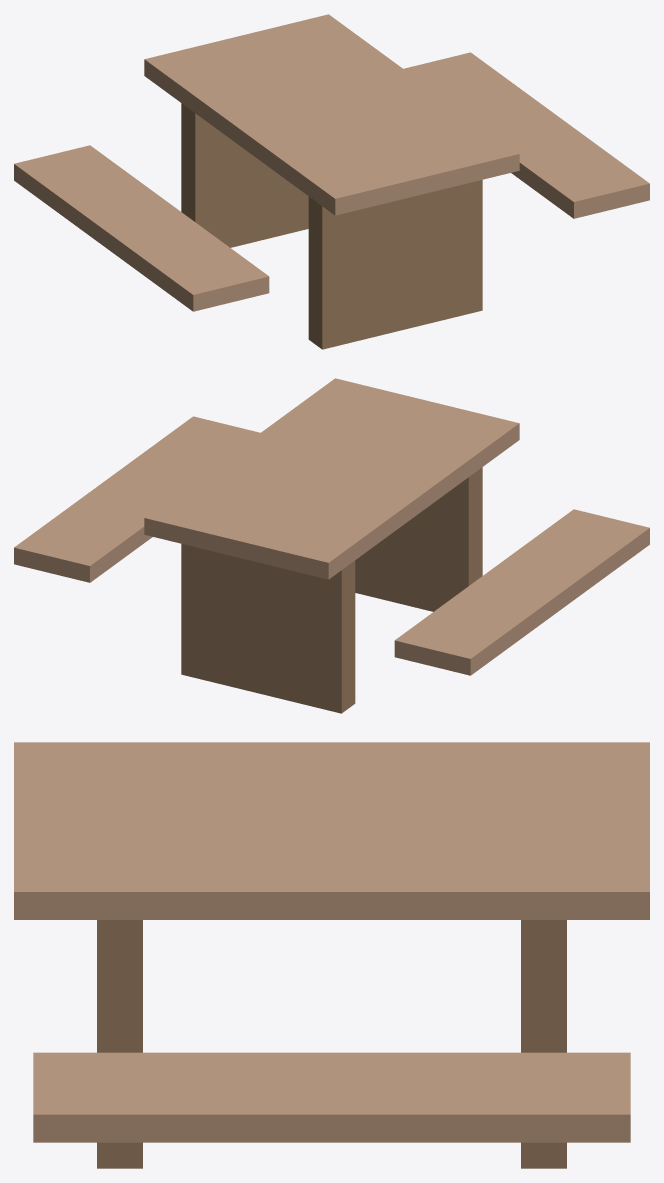
File: prop-picnic-table.glb
3 renders of one model, top to bottom at view 1: azimuth 30°, elevation 25°; view 2: azimuth 150°, elevation 25°; view 3: azimuth 270°, elevation 25°, orthographic. The views are drawn at different scales.
Parts seen in each view (by area): view 1: prop-picnic-table; view 2: prop-picnic-table; view 3: prop-picnic-table.
Part boxes in pixels (left/top/right/bottom): prop-picnic-table: left=14, top=14, right=649, bottom=349; prop-picnic-table: left=14, top=378, right=649, bottom=713; prop-picnic-table: left=14, top=742, right=649, bottom=1168.
Size of the model in its own units: 2.28 by 0.82 by 1.65.
